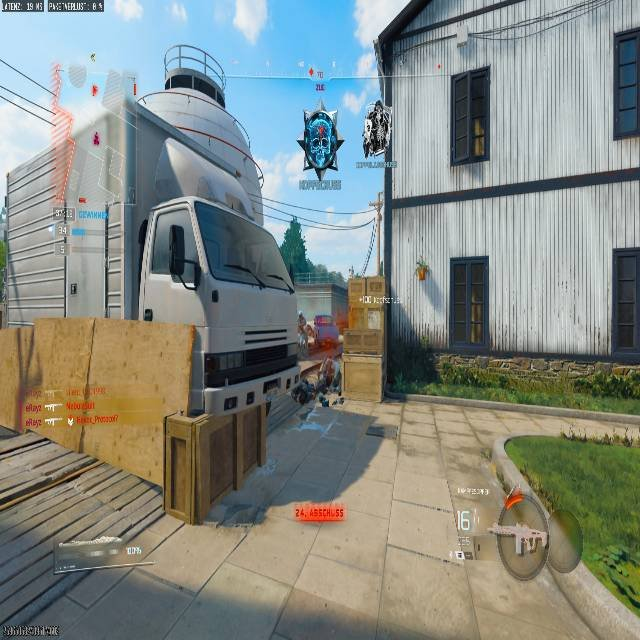head: (298, 312, 303, 319)
player: (288, 327, 342, 415), (300, 106, 340, 186), (296, 312, 310, 353)
